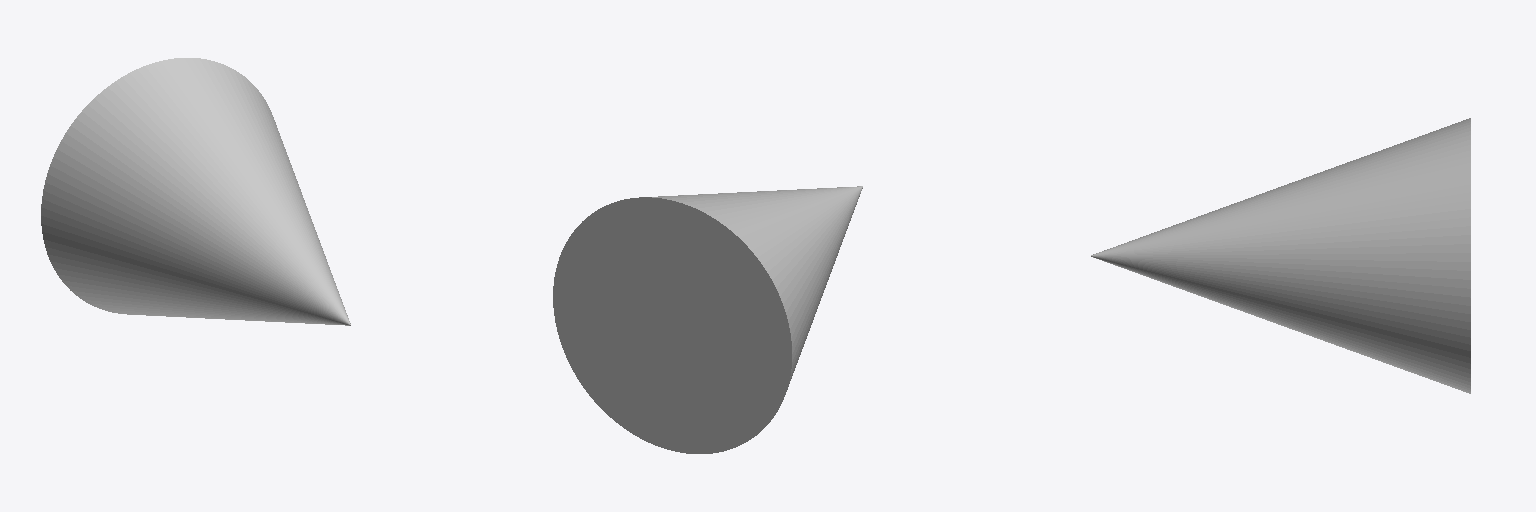
File: boosterOn.obj
3 renders of one model, left to right at view 1: azimuth 30°, elevation 25°; view 2: azimuth 150°, elevation 25°; view 3: azimuth 270°, elevation 25°, orthographic.
Visible parts, largest first — view 1: Object.1; view 2: Object.1; view 3: Object.1.
Boxes of the visible parts, x1=… form: Object.1: x1=41, y1=58, x2=350, y2=325; Object.1: x1=553, y1=186, x2=862, y2=453; Object.1: x1=1091, y1=118, x2=1470, y2=393.
Bounding box in the file's own units: 100 × 100 × 138.